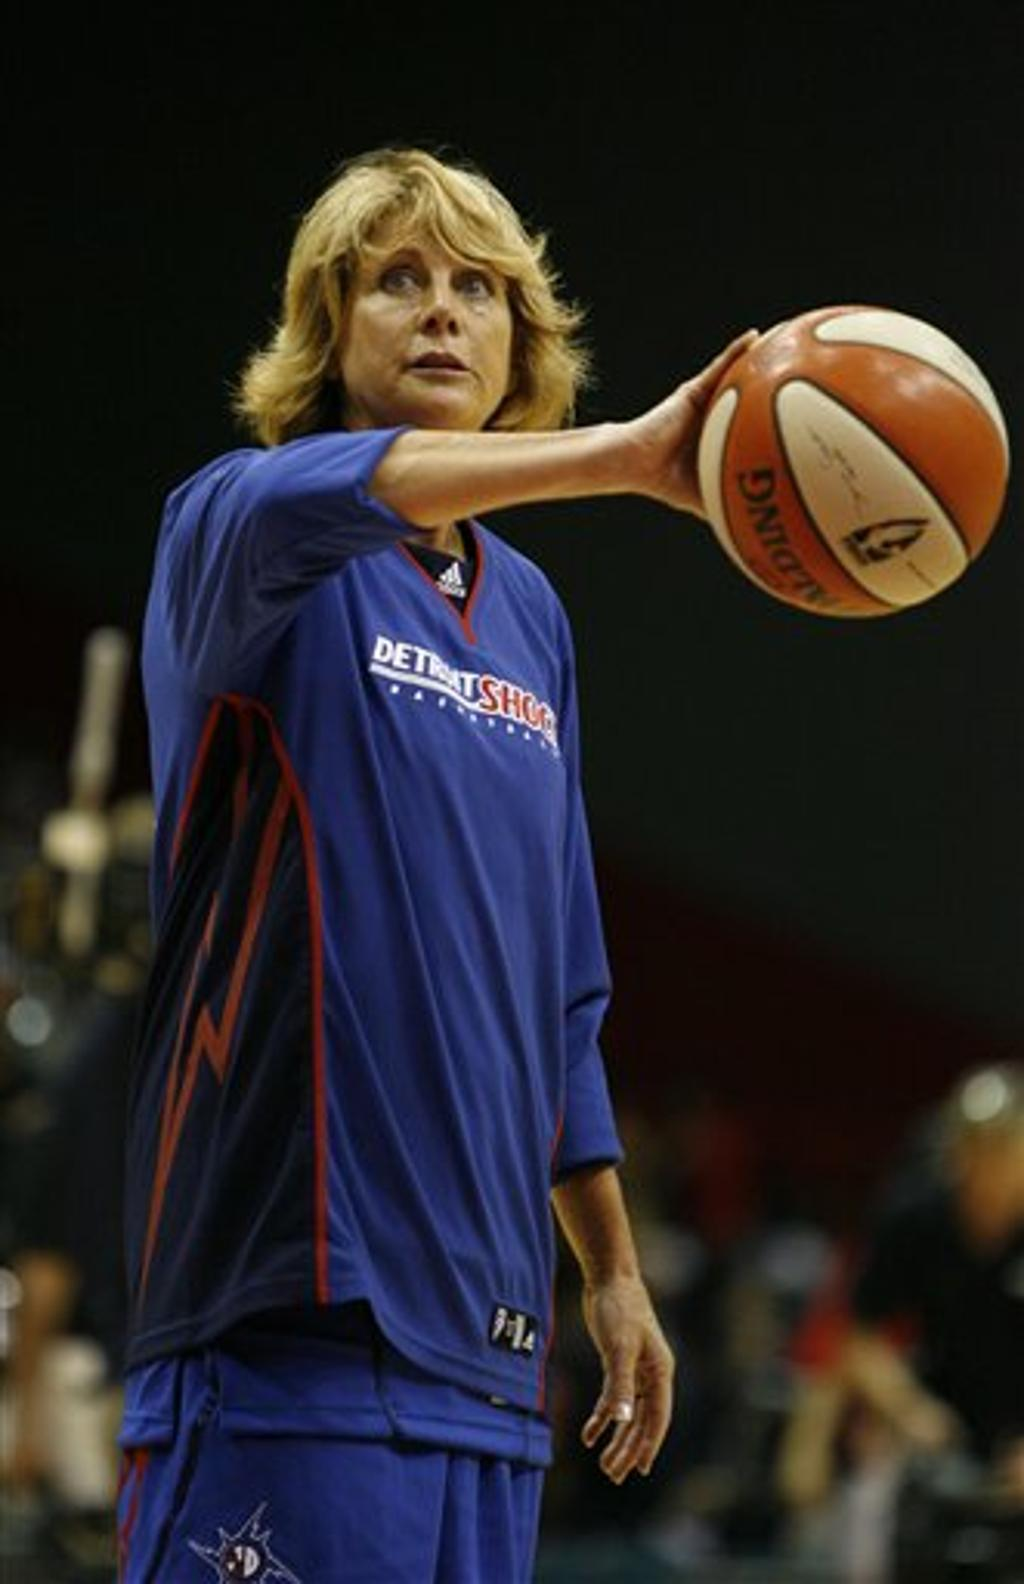face: (335, 193, 521, 422)
